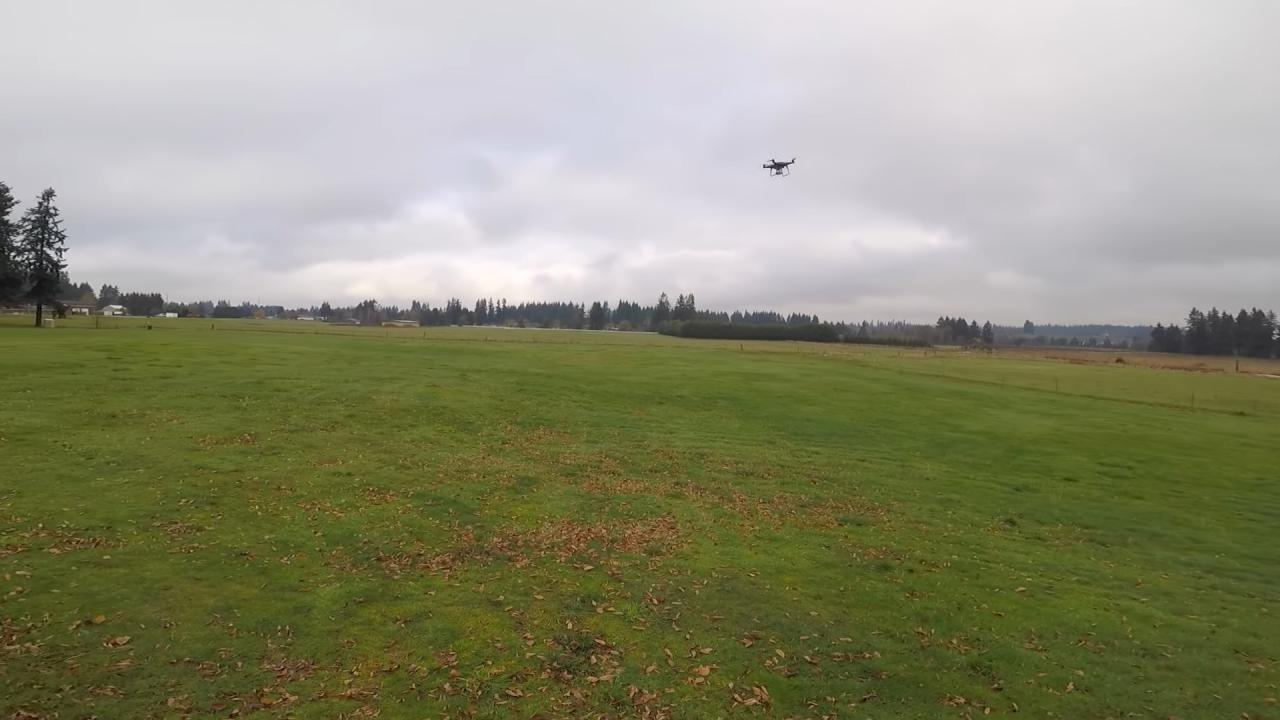Drone: (754, 149, 805, 183)
